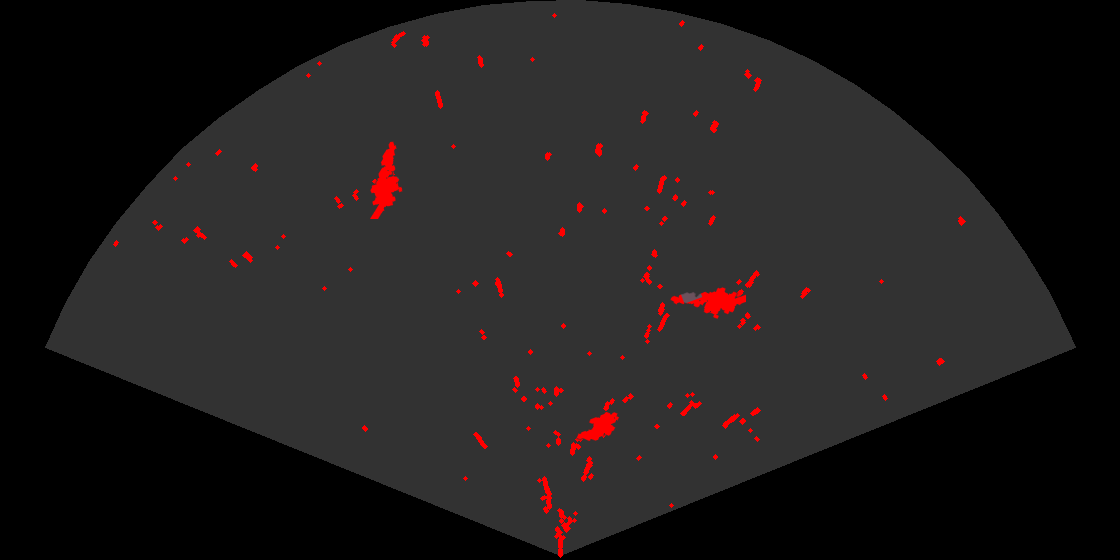AUV: (575, 410, 621, 443)
frogman: (369, 140, 404, 219), (669, 286, 746, 320)
